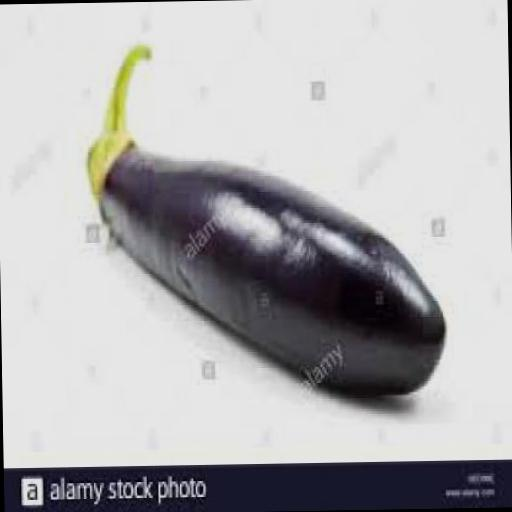biodegradable: (88, 36, 446, 400)
